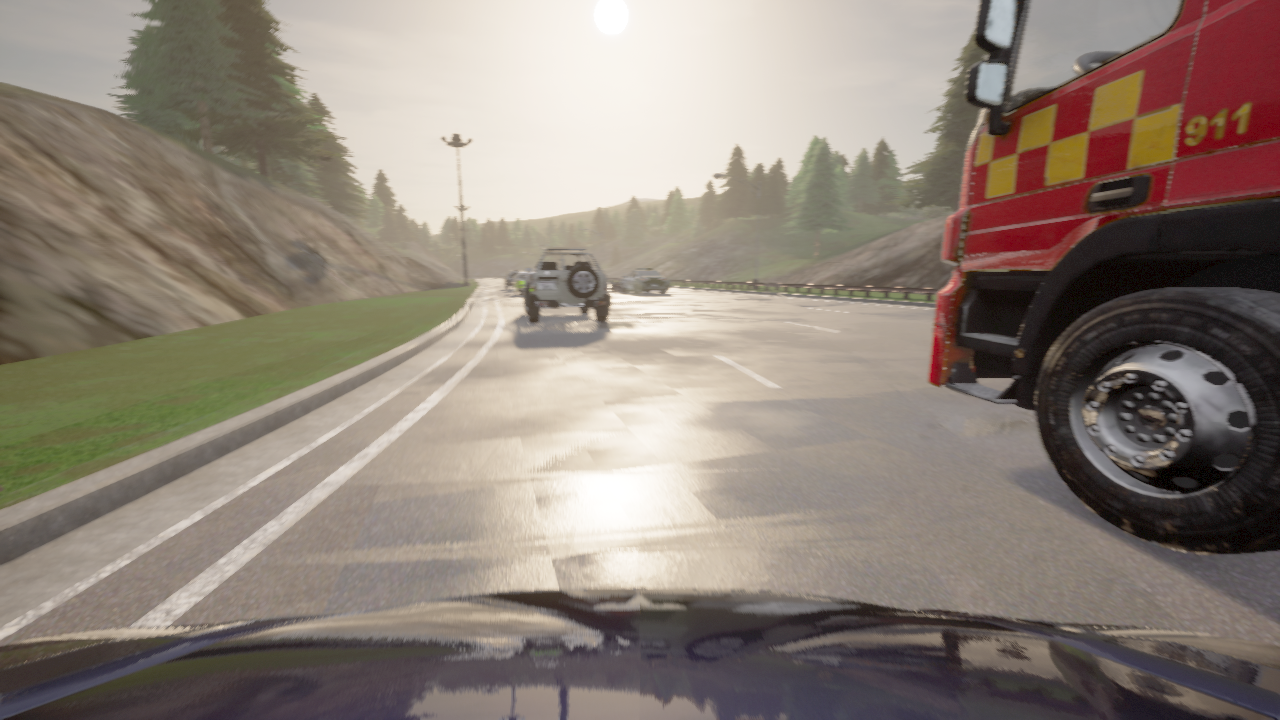cyclist: (928, 0, 1279, 554), (0, 588, 1279, 719), (524, 247, 610, 323), (620, 268, 669, 294), (512, 271, 531, 295), (503, 270, 522, 289), (611, 282, 632, 291)
